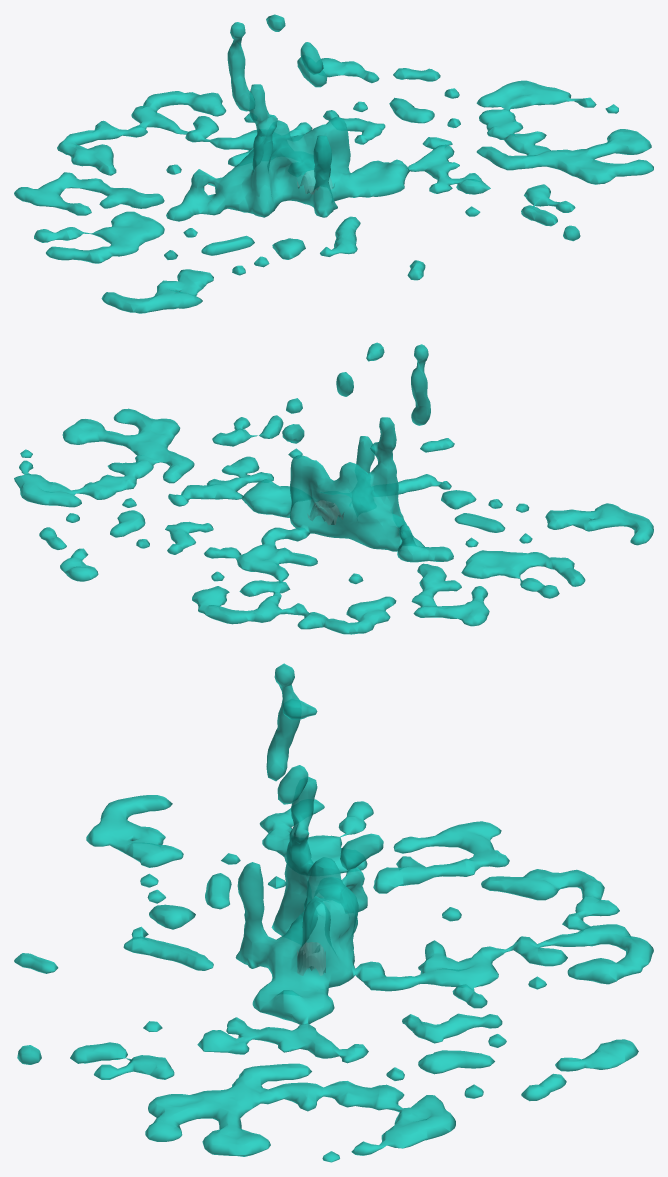
The picture shows the model from 3 angles, top to bottom: view 1: azimuth 30°, elevation 25°; view 2: azimuth 150°, elevation 25°; view 3: azimuth 270°, elevation 25°; orthographic projection. The views are drawn at different scales.
Visible parts, largest first — view 1: Liquid_Domain; view 2: Liquid_Domain, グリッド; view 3: Liquid_Domain, グリッド.
Boxes of the visible parts, x1,y1,x2,y2 form: Liquid_Domain: (14, 14, 653, 313); Liquid_Domain: (14, 342, 653, 634); グリッド: (307, 500, 343, 524); Liquid_Domain: (14, 663, 653, 1162); グリッド: (297, 942, 325, 975).
Bounding box in the file's own units: 8.93 × 2.96 × 6.67.
